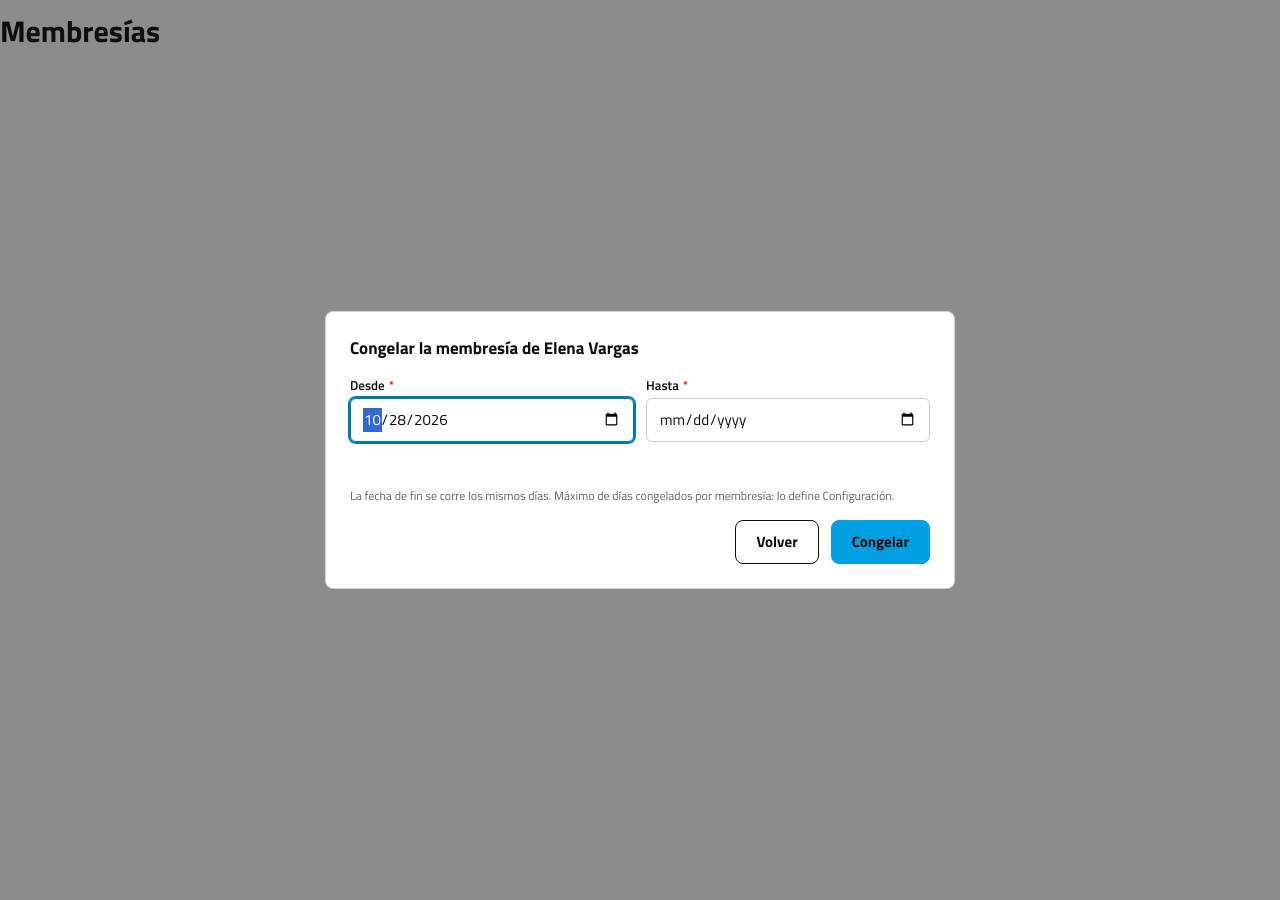
Test: FreezeModal · vista previa y validación › fechas invertidas: sin vista previa, error bajo Hasta y ningún envío
Type "2026-10-20" into the date field labelled "Hasta*" at (788,420), box [646,398,930,442]
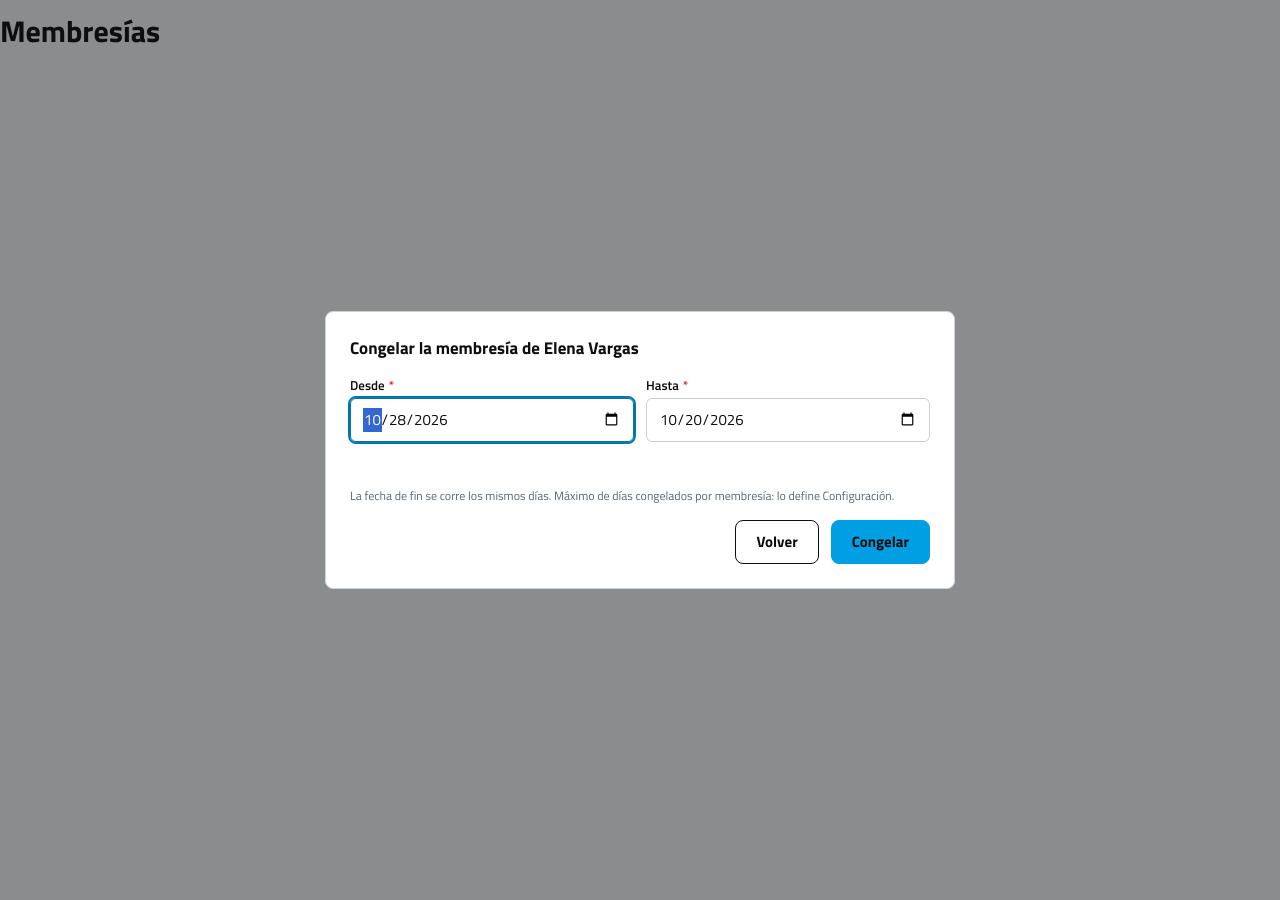
Click the button "Congelar" at (880,542), box [831,520,930,564]
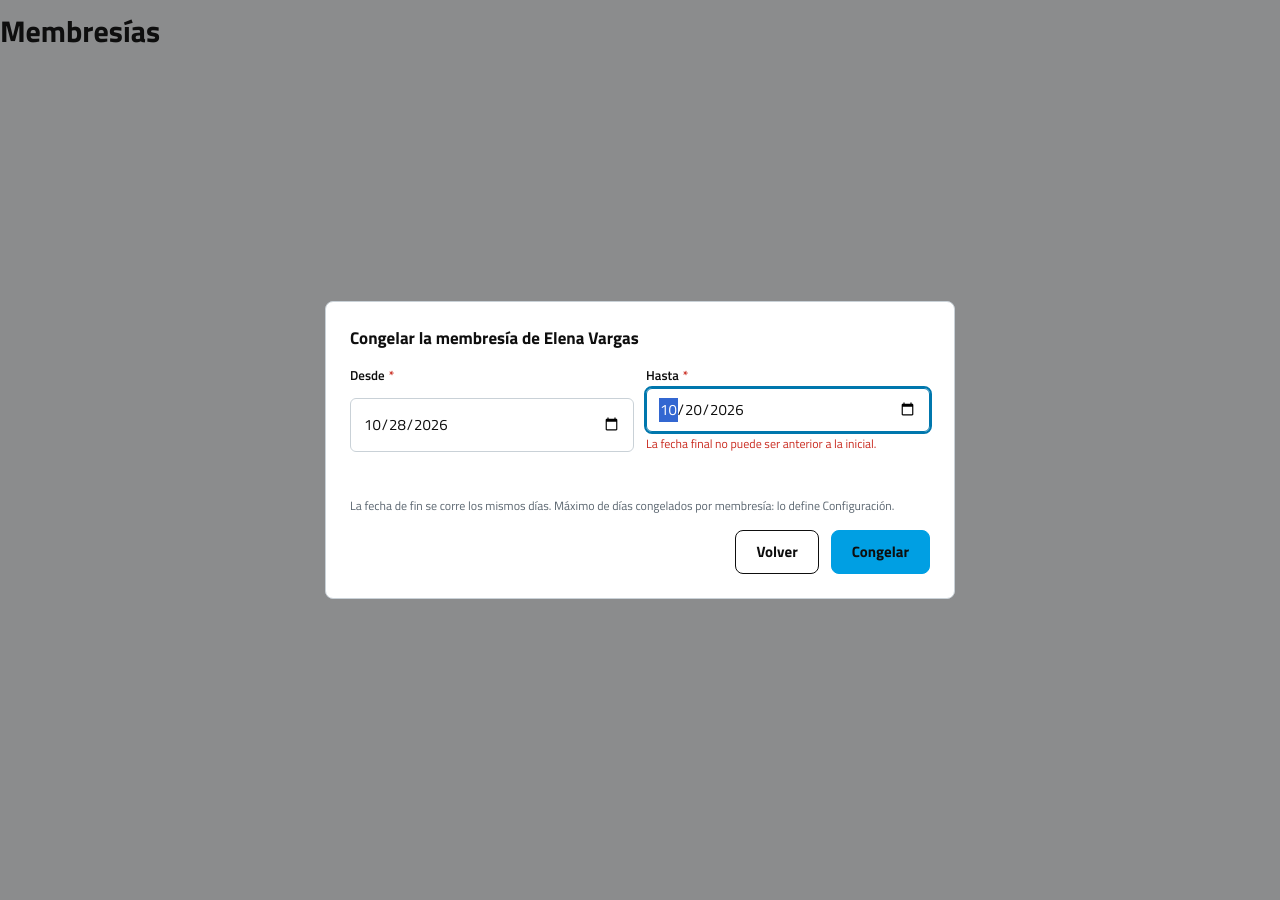
expect the text "La fecha final no puede ser anterior a la inicial." is shown: met, box [646,434,876,453]
